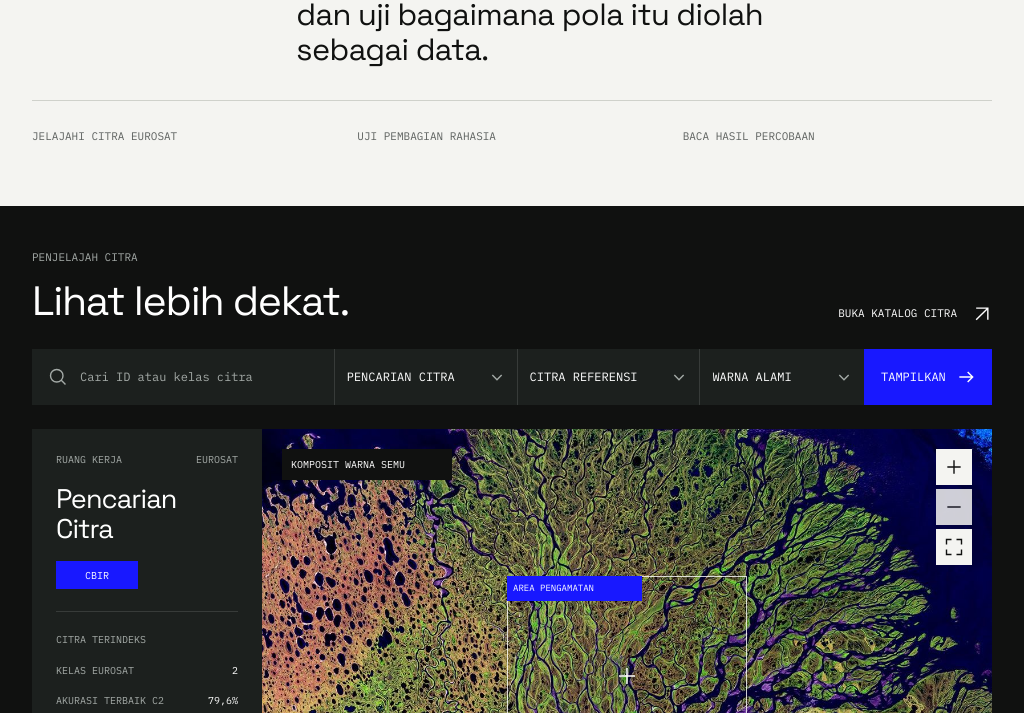
Test: Beranda dan navigasi › menampilkan enam rute serta metrik dari meta dan hasil C2
(page scrolled)
Check: the text "79,6%" is shown, box left=208, top=694, right=238, bottom=708
In the field labelled "Cari ID atau kelas citra": (207, 376) left=80, top=348, right=334, bottom=404, type "River_12"
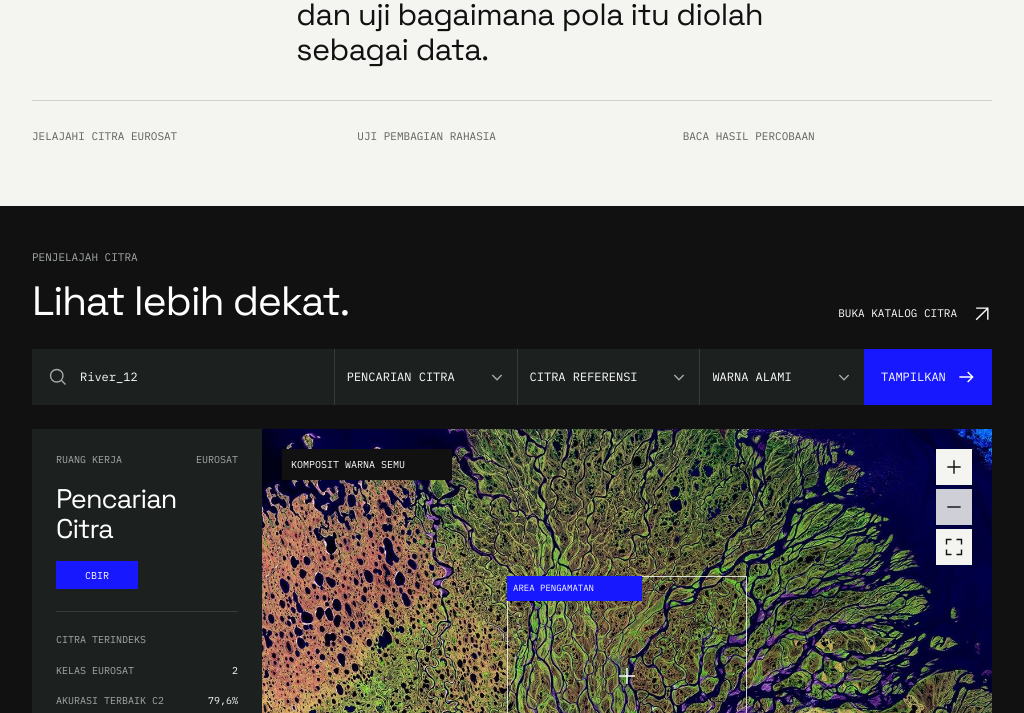
Click the button "Tampilkan": click(928, 376) left=864, top=348, right=992, bottom=404
(page scrolled)
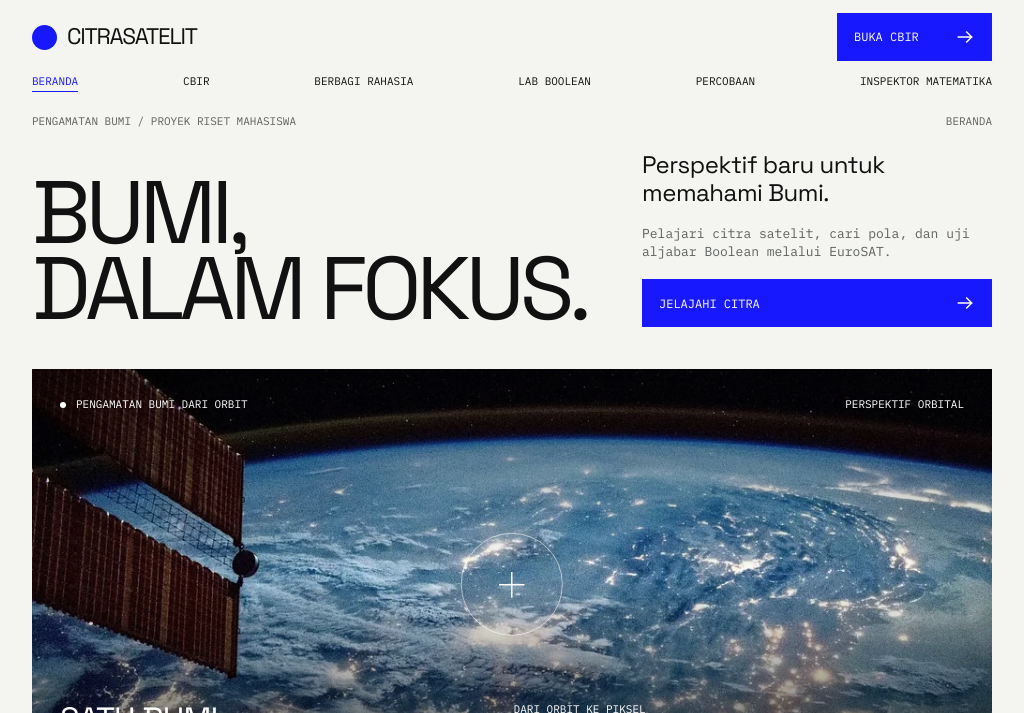
Click the link "Lab Boolean": click(554, 82) left=518, top=71, right=591, bottom=92
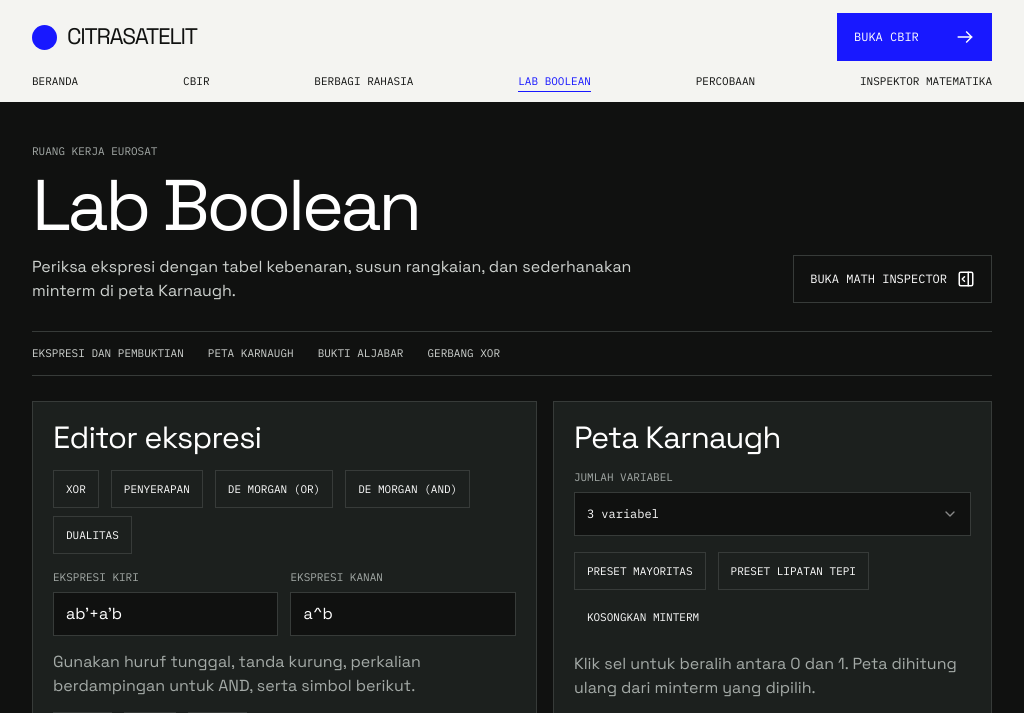
Check: the heading "Lab Boolean" is shown, box left=32, top=159, right=419, bottom=251
Check: the link "Lab Boolean" is marked as current, box left=518, top=71, right=591, bottom=92
